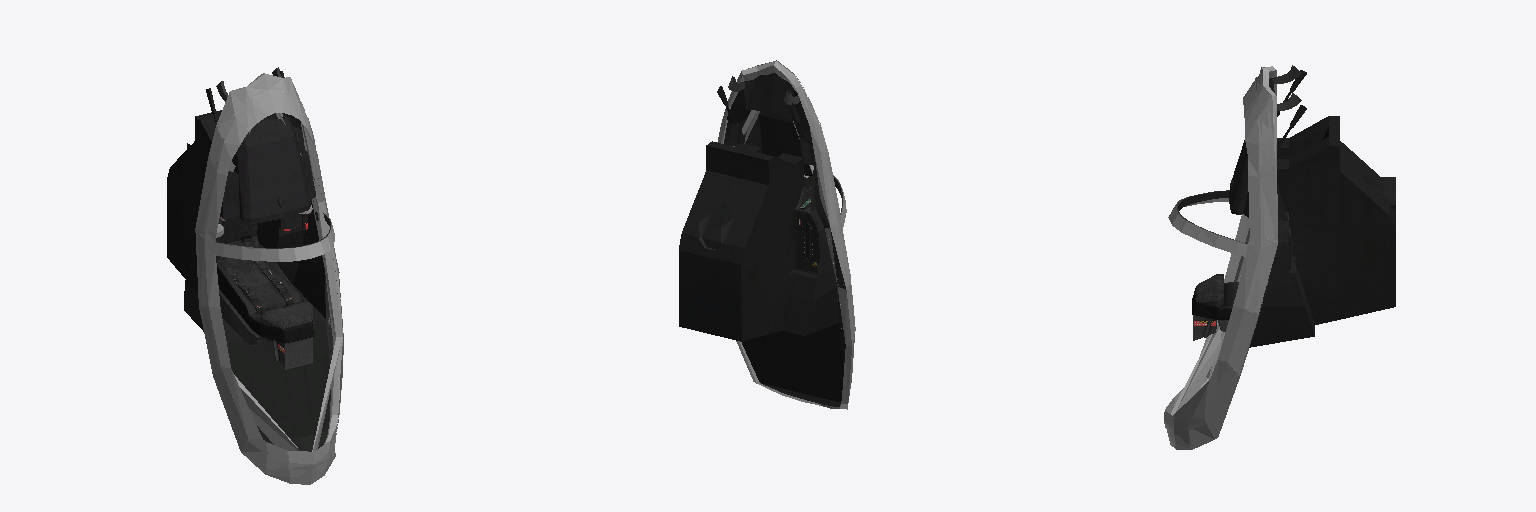
The picture shows the model from 3 angles: view 1: azimuth 30°, elevation 25°; view 2: azimuth 150°, elevation 25°; view 3: azimuth 270°, elevation 25°; orthographic projection.
Visible parts, largest first — view 1: Mesh_0335.005; view 2: Mesh_0335.005; view 3: Mesh_0335.005.
Boxes of the visible parts, box(x1,y1,x2,y2) form: Mesh_0335.005: box(167, 67, 343, 484); Mesh_0335.005: box(679, 60, 855, 409); Mesh_0335.005: box(1164, 65, 1395, 449).
Bounding box in the file's own units: 12.77 × 33.88 × 18.83.
17 materials, 2 textured.